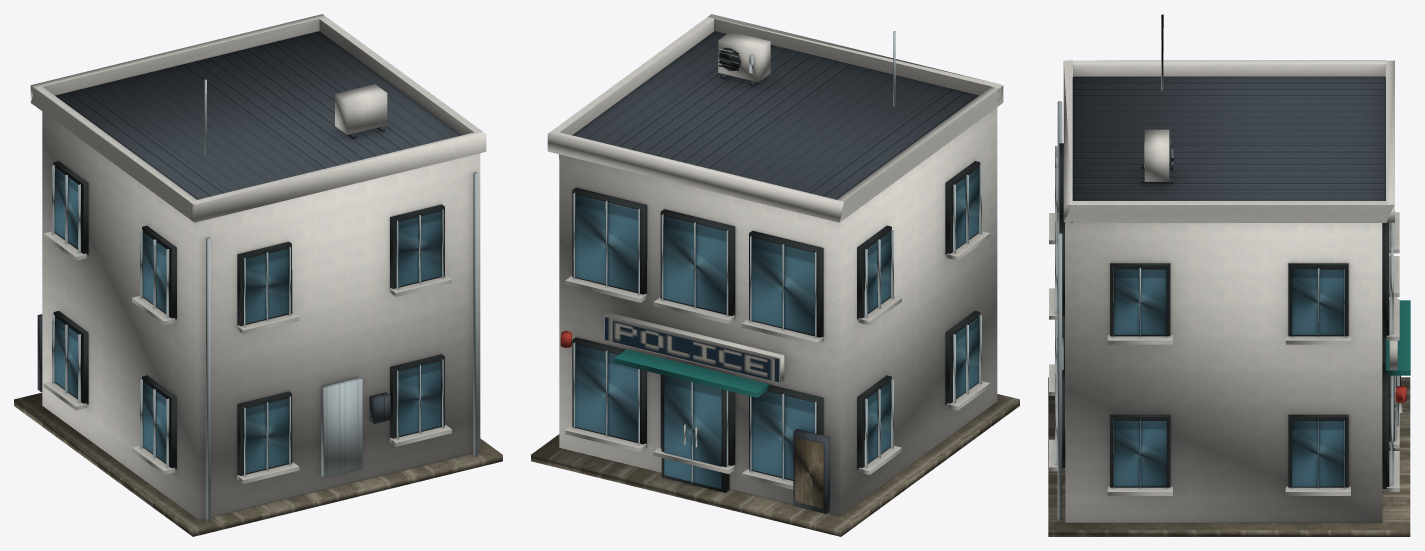
File: public_003.obj
3 renders of one model, left to right at view 1: azimuth 30°, elevation 25°; view 2: azimuth 150°, elevation 25°; view 3: azimuth 270°, elevation 25°, orthographic.
Visible parts, largest first — view 1: public_003; view 2: public_003; view 3: public_003.
Part boxes in pixels (box(x1,y1,x2,y2)): public_003: box(14, 14, 502, 536); public_003: box(531, 14, 1019, 536); public_003: box(1048, 14, 1410, 536).
Size of the model in its own units: 6.5 by 8 by 6.51.
1 material, 1 textured.
